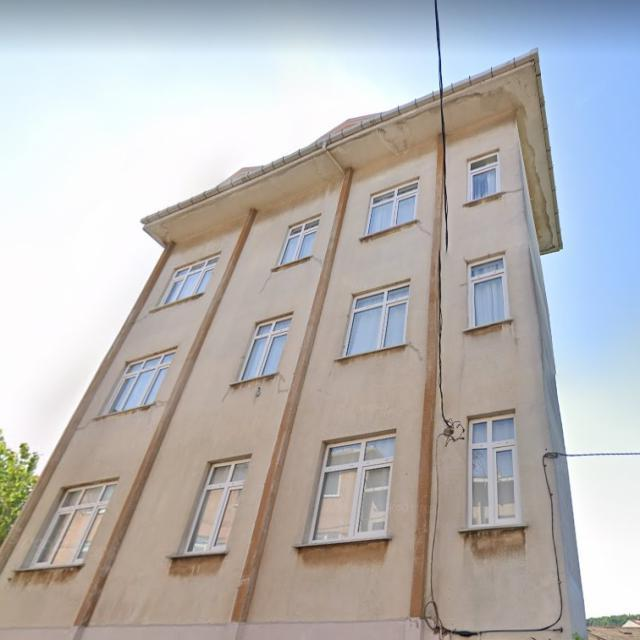Building: (0, 48, 589, 640)
